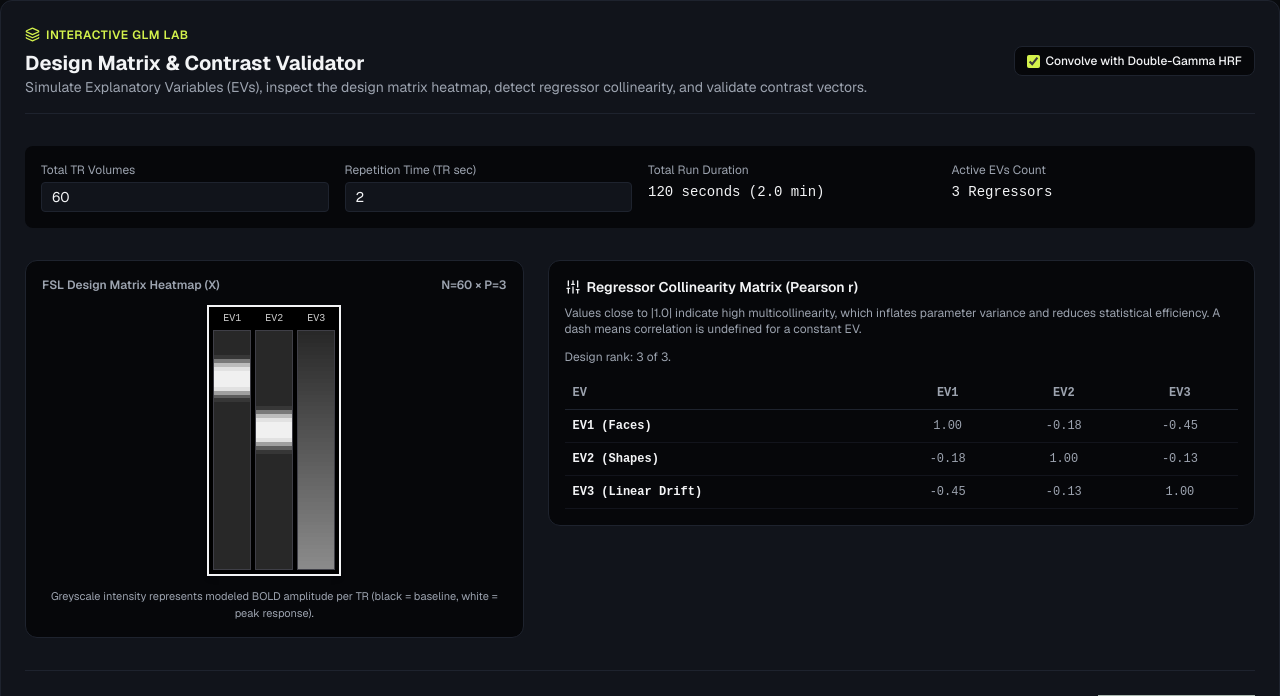
Test: review regression fixes › rejects contrasts when the shortened run contains no task events
The width and height of the screenshot is (1280, 696).
Replace the text in the number field named "Total TR Volumes" with "20" at (185, 197), box [41,182,328,212]
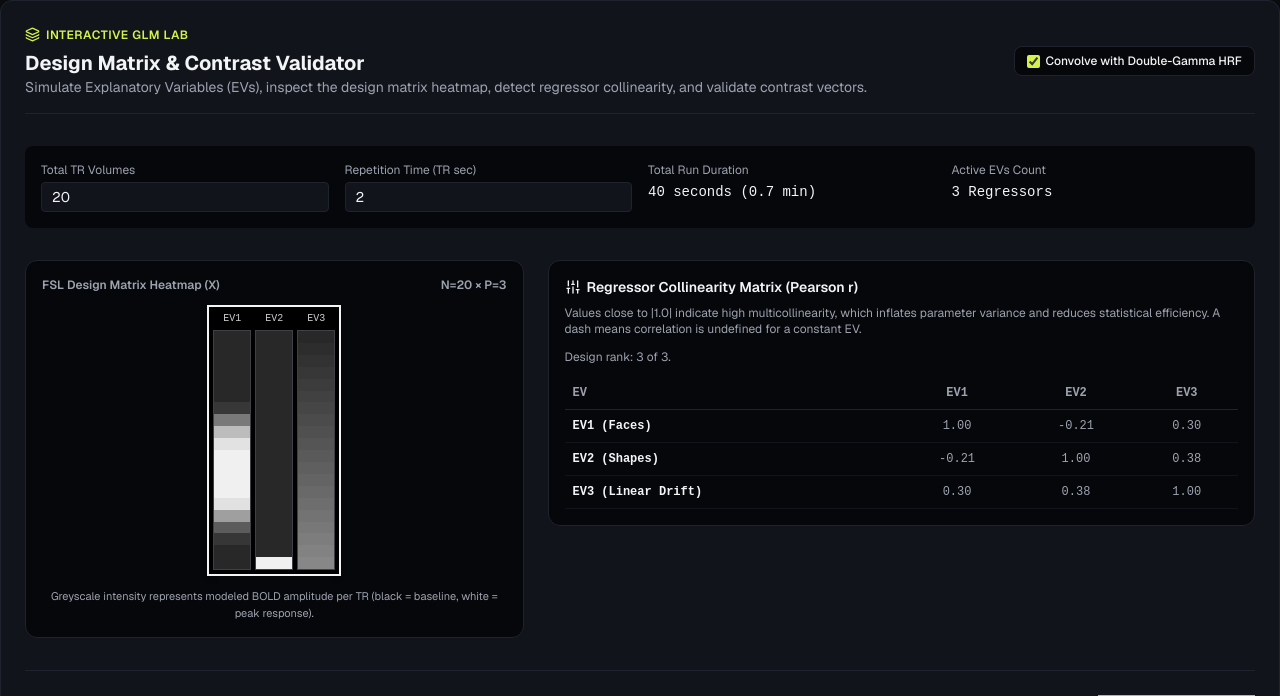
Replace the text in the number field named "Repetition Time (TR sec)" with "0.5" at (488, 197), box [344,182,632,212]
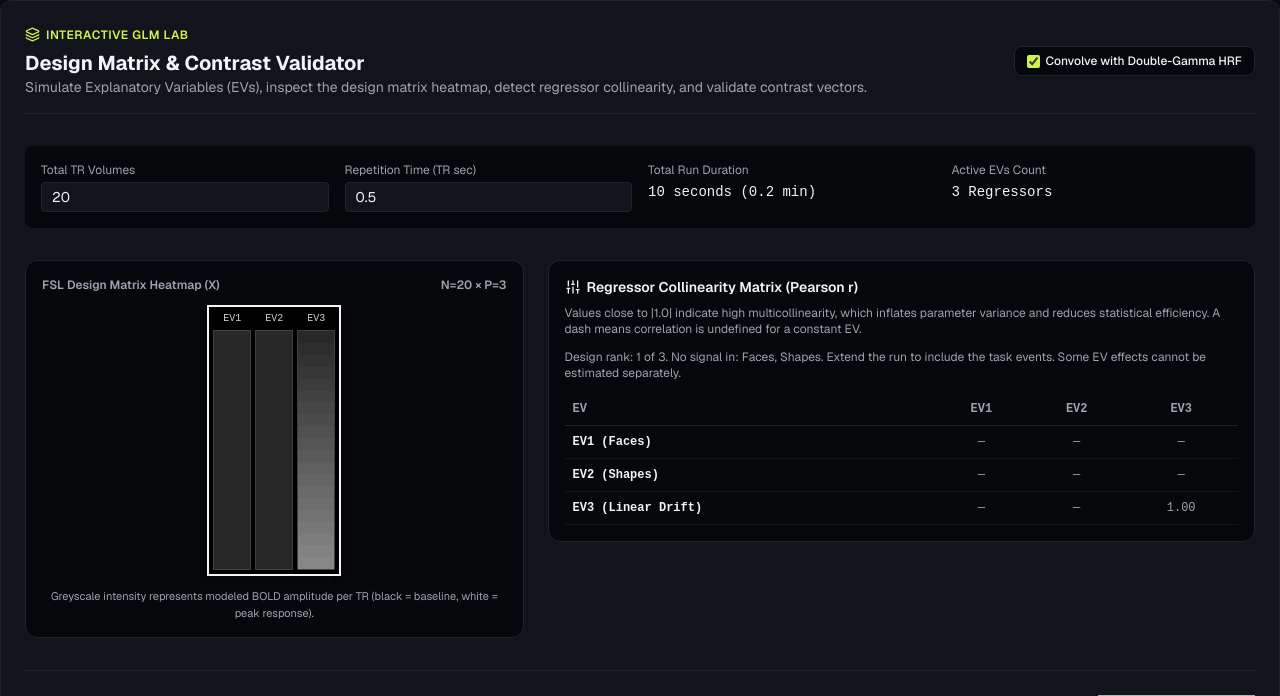
Expected: the message shows "No signal in: Faces, Shapes", [668,349,1055,365]
